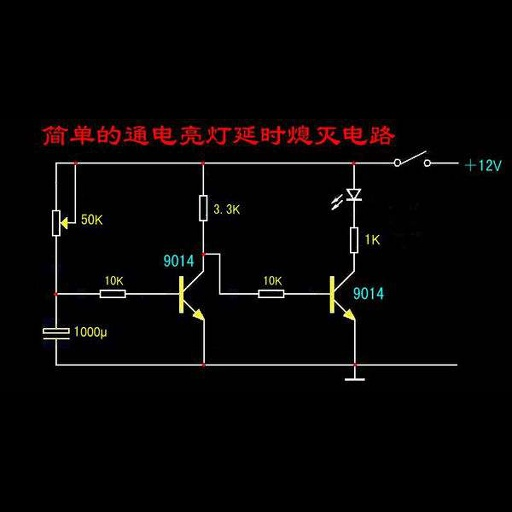firstresistance: (253, 285, 291, 303), (97, 284, 130, 304), (191, 191, 210, 224), (345, 224, 362, 255)
npn: (322, 267, 357, 328), (171, 272, 210, 326)
secondled: (322, 182, 366, 212)
